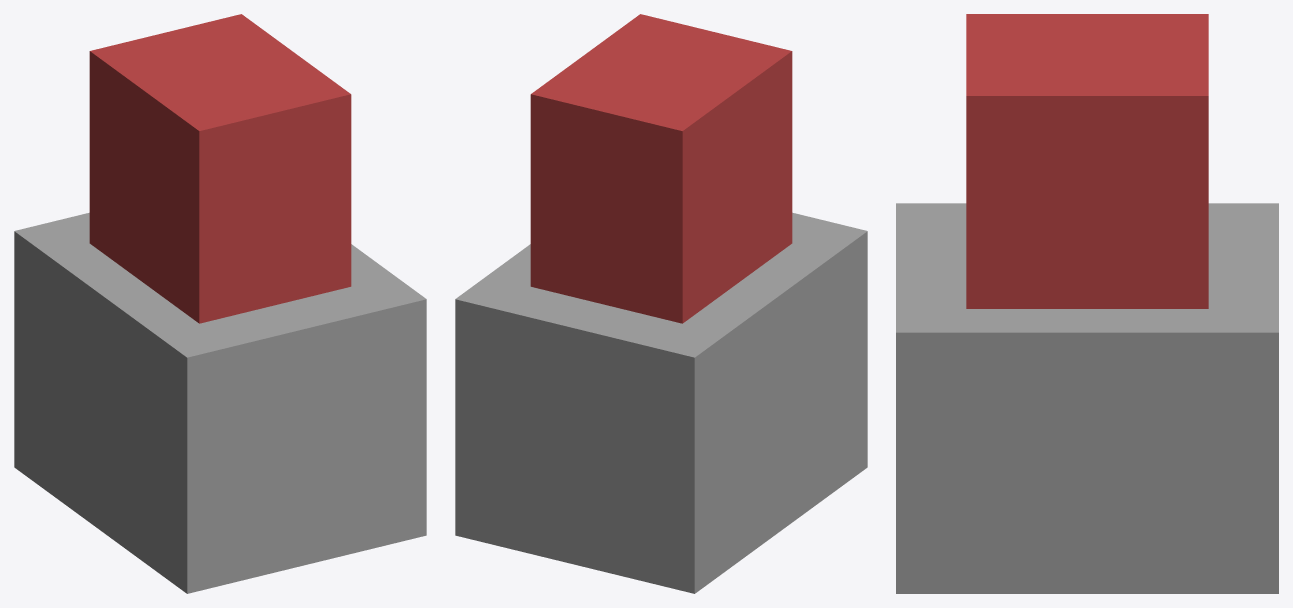
3 renders of one model, left to right at view 1: azimuth 30°, elevation 25°; view 2: azimuth 150°, elevation 25°; view 3: azimuth 270°, elevation 25°, orthographic. The views are drawn at different scales.
Parts seen in each view (by area): view 1: pCube1; view 2: pCube1; view 3: pCube1.
Boxes of the visible parts, x1=… form: pCube1: x1=14, y1=14, x2=426, y2=593; pCube1: x1=455, y1=14, x2=867, y2=593; pCube1: x1=896, y1=14, x2=1278, y2=593.
Size of the model in its own units: 7.42 by 12.69 by 9.28.
